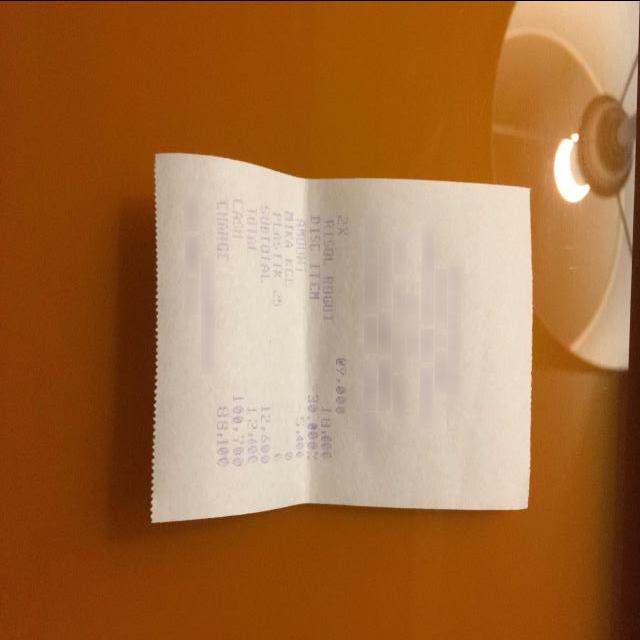kertas: (152, 153, 534, 523)
